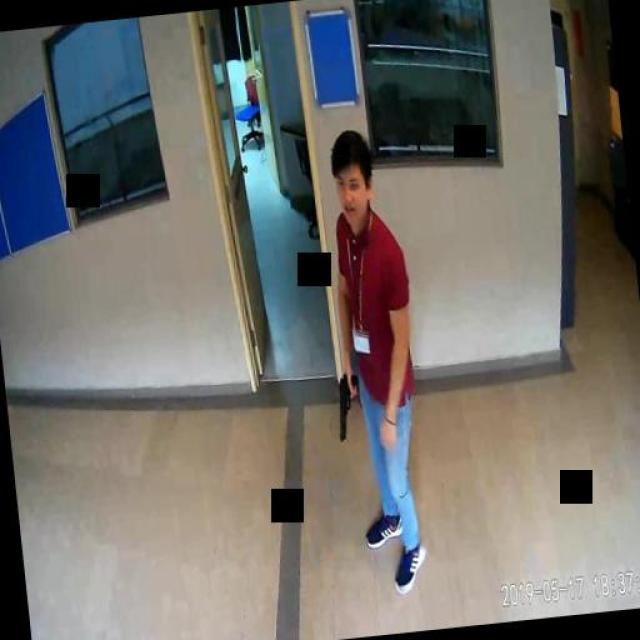gun: (333, 370, 365, 441)
